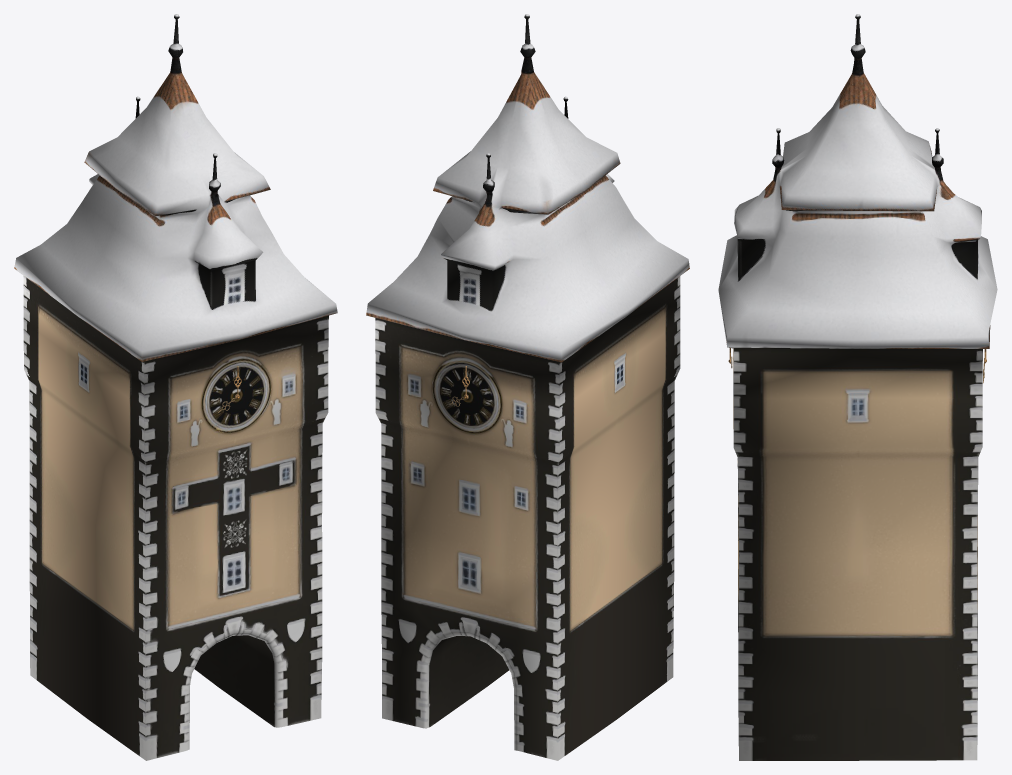
The model's file is Tower-2.FBX.
3 views of the same model, side by side, from view 1: azimuth 30°, elevation 25°; view 2: azimuth 150°, elevation 25°; view 3: azimuth 270°, elevation 25° (orthographic). The views are drawn at different scales.
Visible parts, largest first — view 1: Tower-2; view 2: Tower-2; view 3: Tower-2.
Boxes of the visible parts, left/top/right/bottom form: Tower-2: left=14, top=14, right=337, bottom=760; Tower-2: left=366, top=14, right=689, bottom=760; Tower-2: left=718, top=14, right=997, bottom=760.
Size of the model in its own units: 44.53 by 141 by 50.66.
3 materials, 3 textured.
